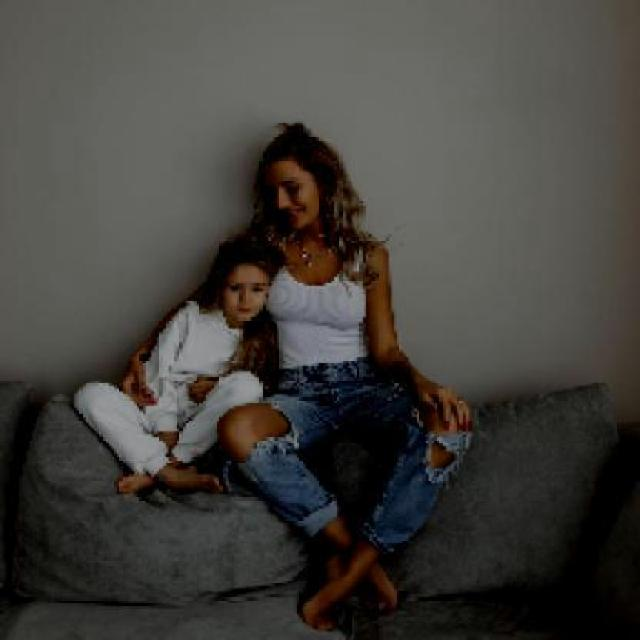child: (73, 232, 287, 494)
